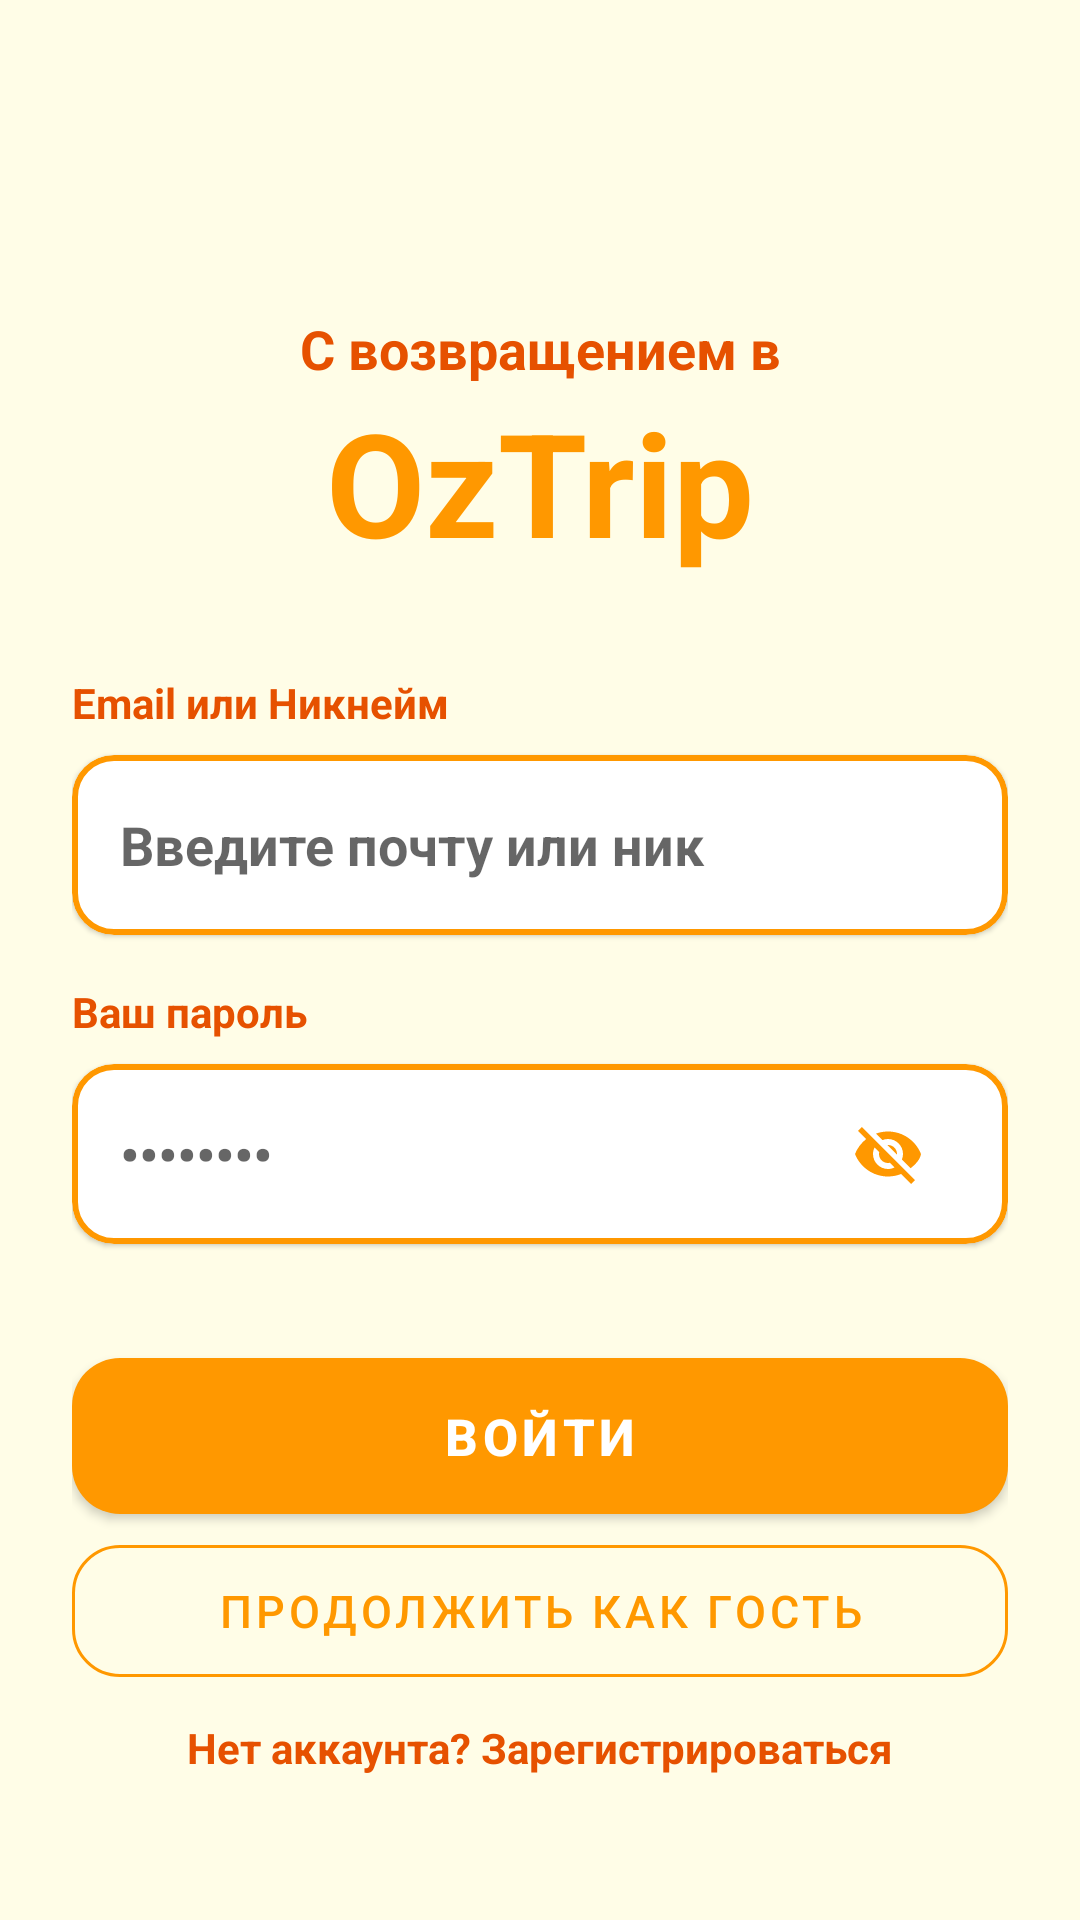

Icons on this 1080×1920 Android screen, each with the point to tap as [x,y]:
eye off: [888,1155]
